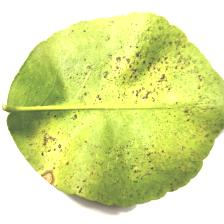canker: (50, 37, 195, 169)
